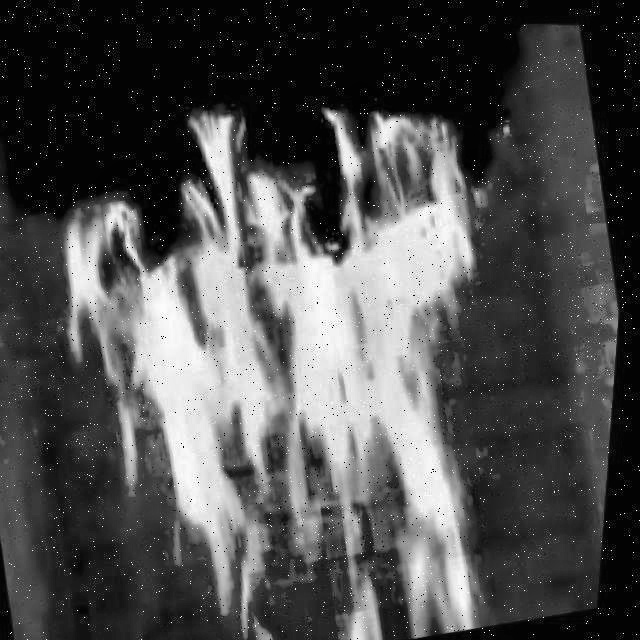Fire: (1, 36, 588, 640)
